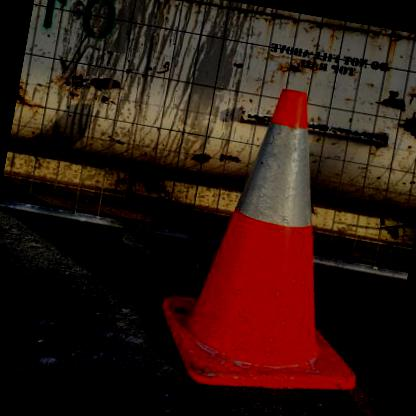cone: (150, 73, 408, 413)
